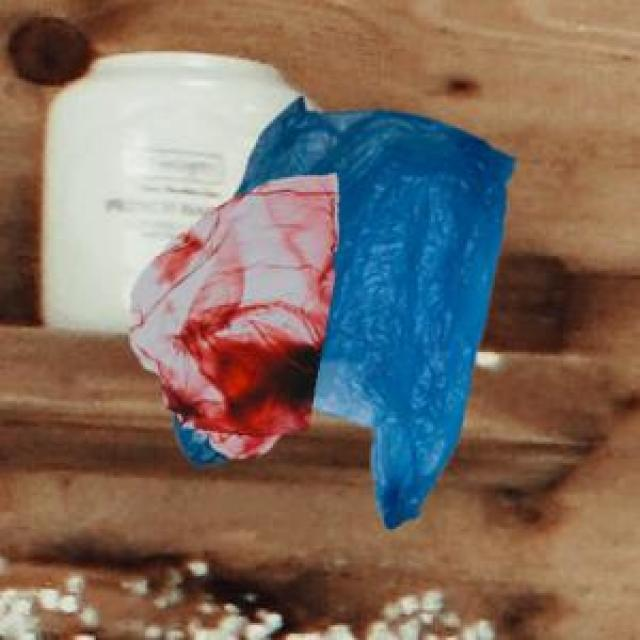waste: (130, 98, 514, 528)
